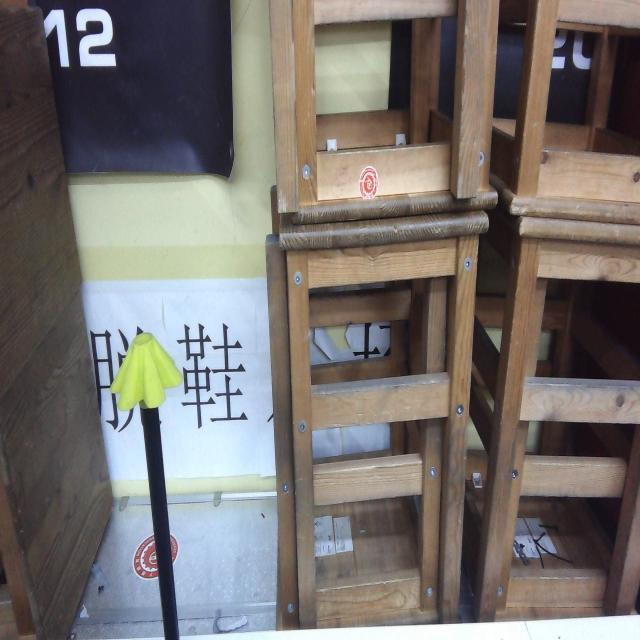Yellow-Stake-Head: (110, 332, 184, 412)
